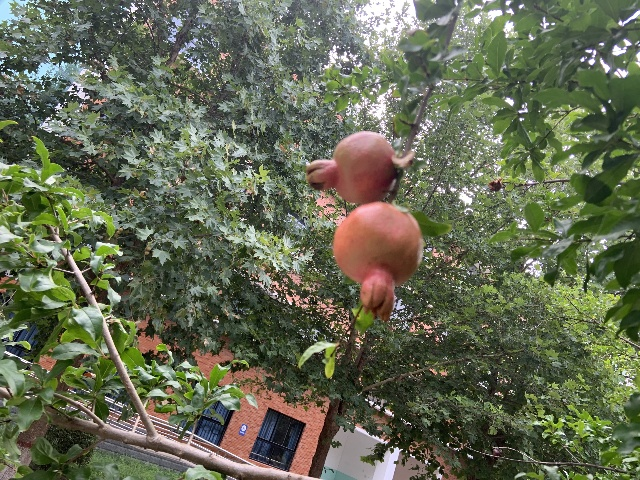ripe: (333, 202, 422, 322), (307, 131, 402, 205)
